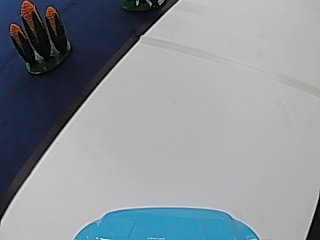corn: (8, 1, 72, 71)
